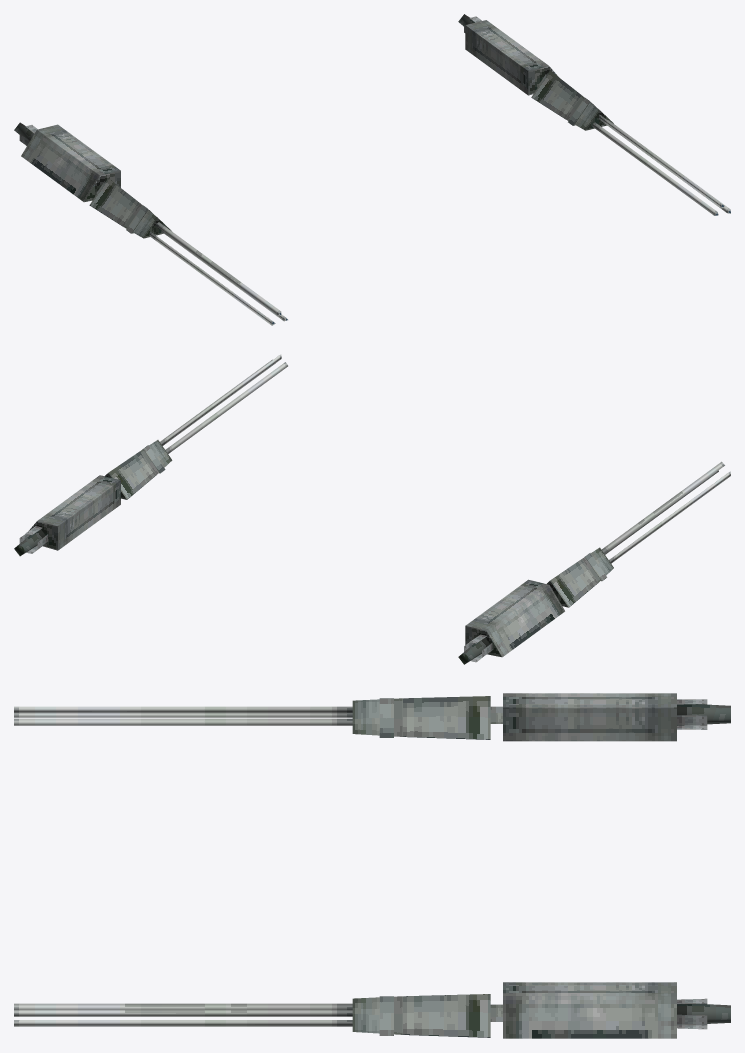
File: awing_weapon_s04_l2.fbx
3 views of the same model, one above another, from view 1: azimuth 30°, elevation 25°; view 2: azimuth 150°, elevation 25°; view 3: azimuth 270°, elevation 25° (orthographic). The views are drawn at different scales.
Parts seen in each view (by area): view 1: mesh_node; view 2: mesh_node; view 3: mesh_node.
Boxes of the visible parts, bbox=[...] form: mesh_node: bbox=[14, 14, 730, 325]; mesh_node: bbox=[14, 354, 730, 664]; mesh_node: bbox=[14, 693, 730, 1038].
Size of the model in its own units: 9.7 by 0.4698 by 9.05.
1 material, 1 textured.
